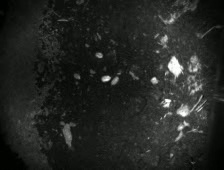corn: (69, 69, 82, 82), (92, 49, 105, 60), (99, 73, 113, 83), (109, 75, 121, 86)
